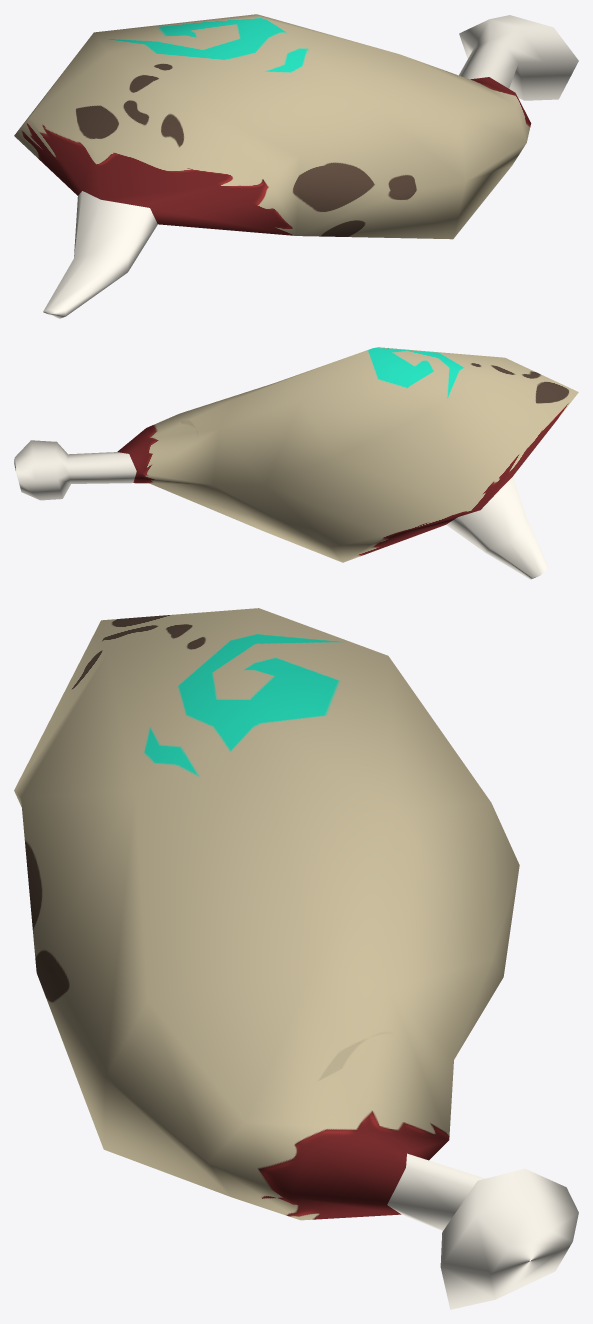
File: Greydeer_Meat.fbx
3 views of the same model, one above another, from view 1: azimuth 30°, elevation 25°; view 2: azimuth 150°, elevation 25°; view 3: azimuth 270°, elevation 25° (orthographic). The views are drawn at different scales.
Parts seen in each view (by area): view 1: Greydeer_Meat; view 2: Greydeer_Meat; view 3: Greydeer_Meat.
Part boxes in pixels (x1,y1,x2,y2): Greydeer_Meat: (14,14,578,318); Greydeer_Meat: (14,347,578,579); Greydeer_Meat: (14,608,578,1309).
Size of the model in its own units: 0.5787 by 0.2278 by 0.3124.
